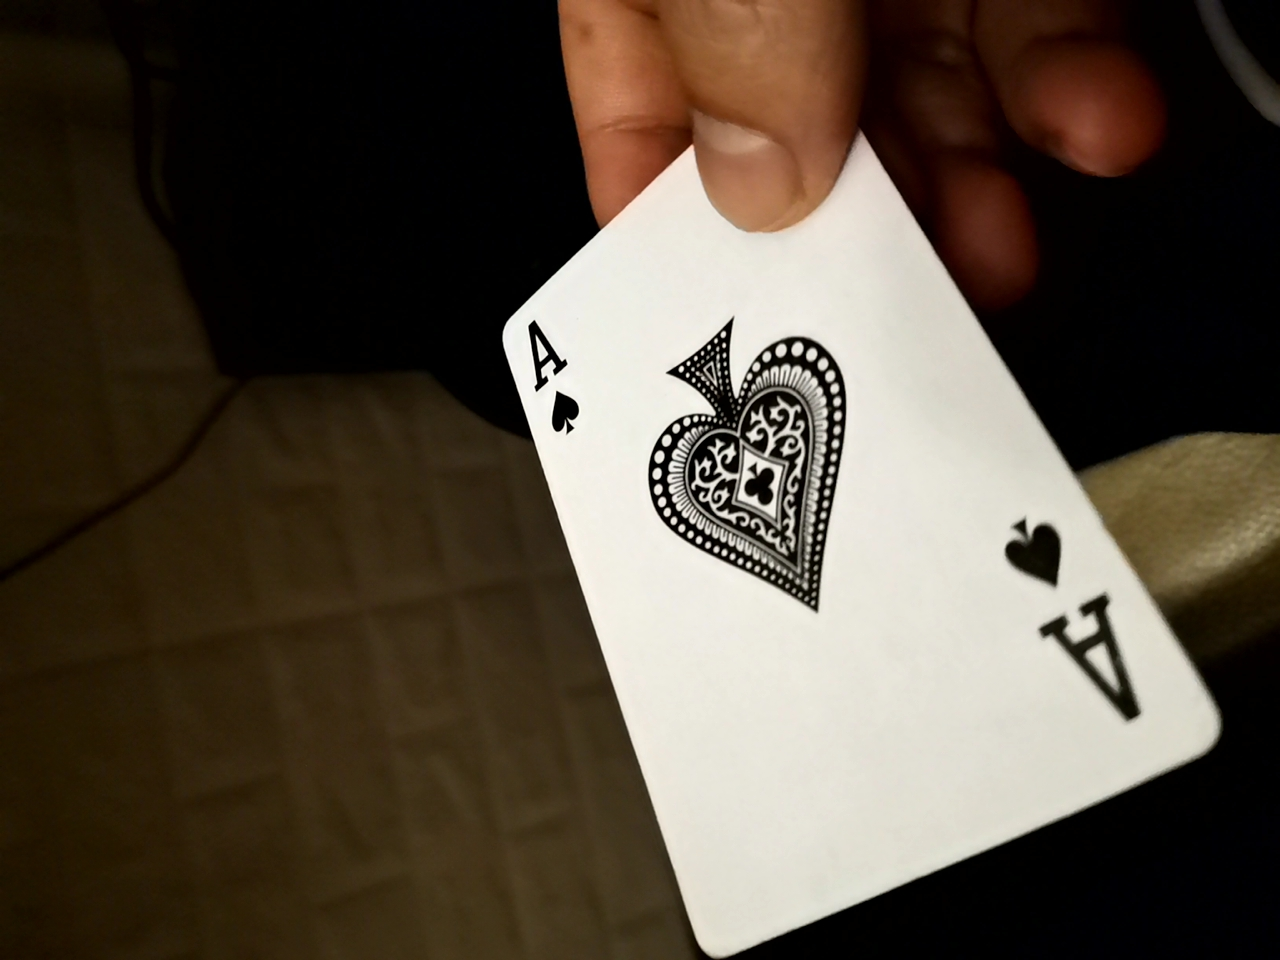ht a: (439, 105, 1160, 951)
